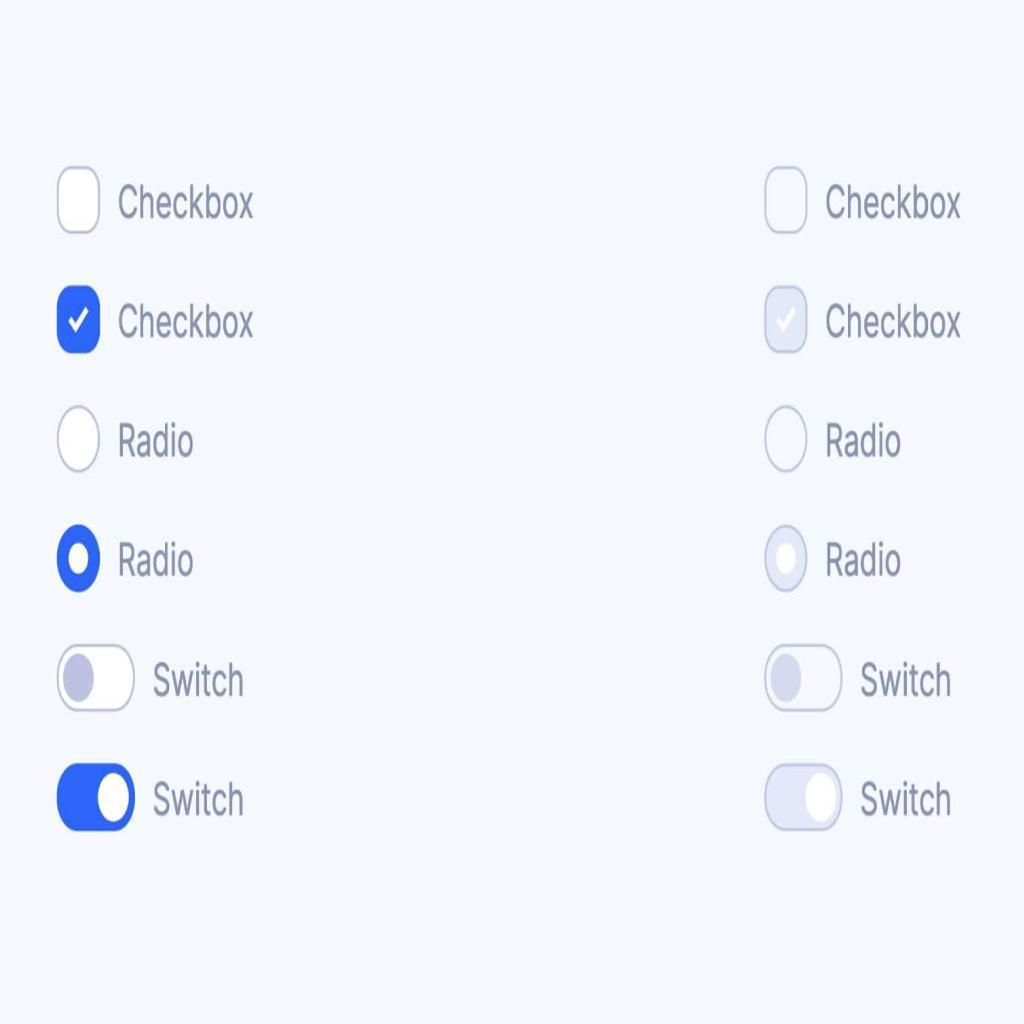checkbox: (57, 286, 102, 354), (57, 168, 101, 234), (766, 167, 808, 234), (765, 289, 808, 354)
radio: (56, 524, 102, 596), (765, 525, 812, 593), (767, 406, 809, 476), (57, 407, 101, 473)
switch: (765, 763, 844, 832), (57, 764, 137, 832), (57, 644, 136, 712), (764, 645, 843, 713)
